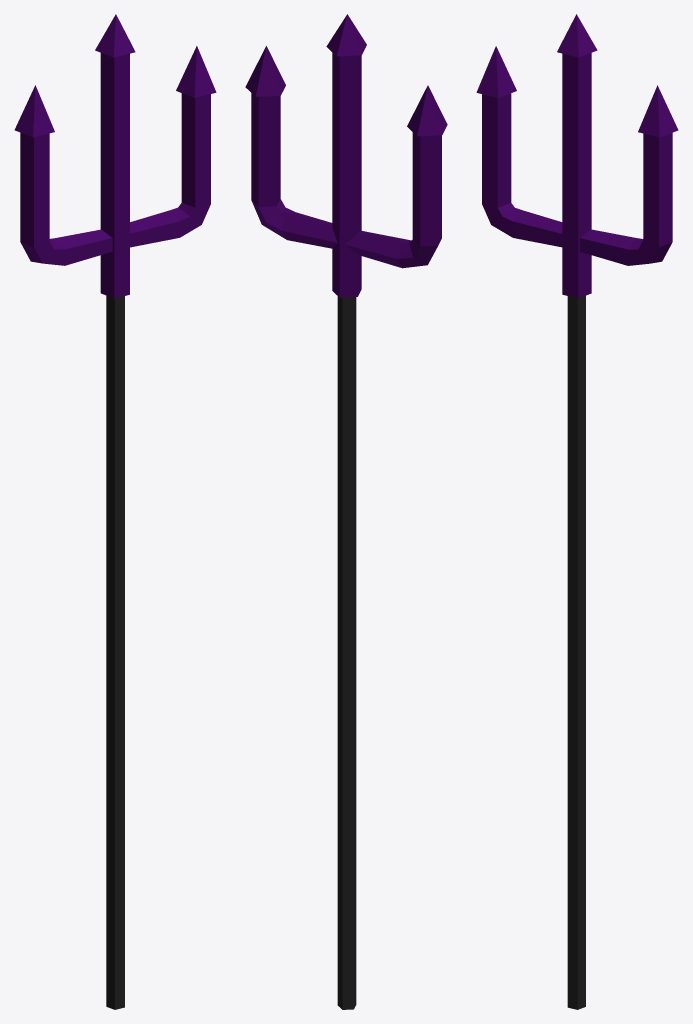
Rendered from weapon.obj.
3 renders of one model, left to right at view 1: azimuth 30°, elevation 25°; view 2: azimuth 150°, elevation 25°; view 3: azimuth 330°, elevation 25°, orthographic.
Parts seen in each view (by area): view 1: 円柱.007; view 2: 円柱.007; view 3: 円柱.007.
Boxes of the visible parts, left/top/right/bottom form: 円柱.007: left=14, top=14, right=216, bottom=1009; 円柱.007: left=245, top=14, right=447, bottom=1009; 円柱.007: left=476, top=14, right=678, bottom=1009.
Size of the model in its own units: 0.9254 by 4.45 by 0.1586.
1 material, 1 textured.
